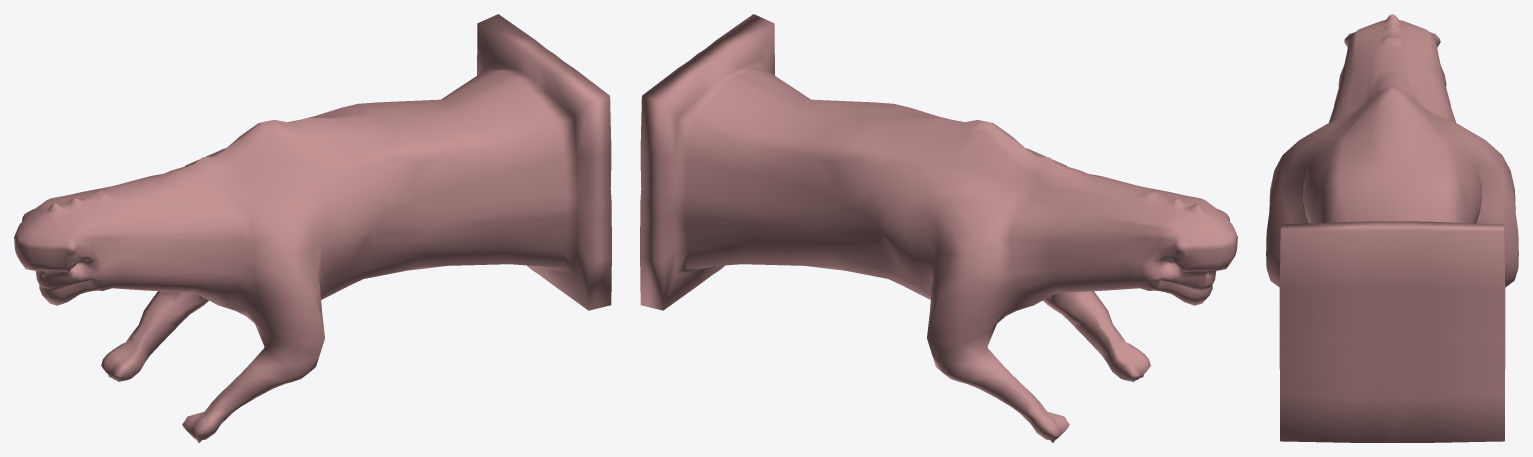
Rendered from Statue_09_Lod0.fbx.
3 renders of one model, left to right at view 1: azimuth 30°, elevation 25°; view 2: azimuth 150°, elevation 25°; view 3: azimuth 270°, elevation 25°, orthographic.
Parts seen in each view (by area): view 1: Statue_09_Lod0; view 2: Statue_09_Lod0; view 3: Statue_09_Lod0.
Boxes of the visible parts, x1,y1,x2,y2 form: Statue_09_Lod0: (14, 14, 611, 442); Statue_09_Lod0: (640, 14, 1237, 442); Statue_09_Lod0: (1266, 14, 1518, 442).
Bounding box in the file's own units: 223 × 104 × 90.54.
